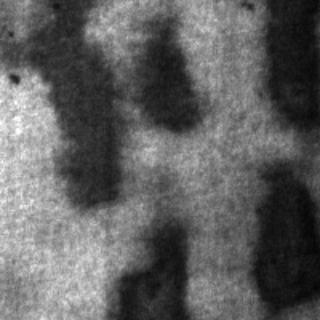patches: (15, 0, 120, 204), (250, 160, 318, 318), (128, 13, 202, 129), (110, 216, 190, 318), (260, 0, 318, 132)
